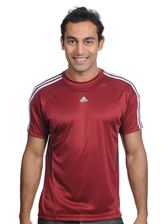clothoes: (22, 65, 150, 220)
